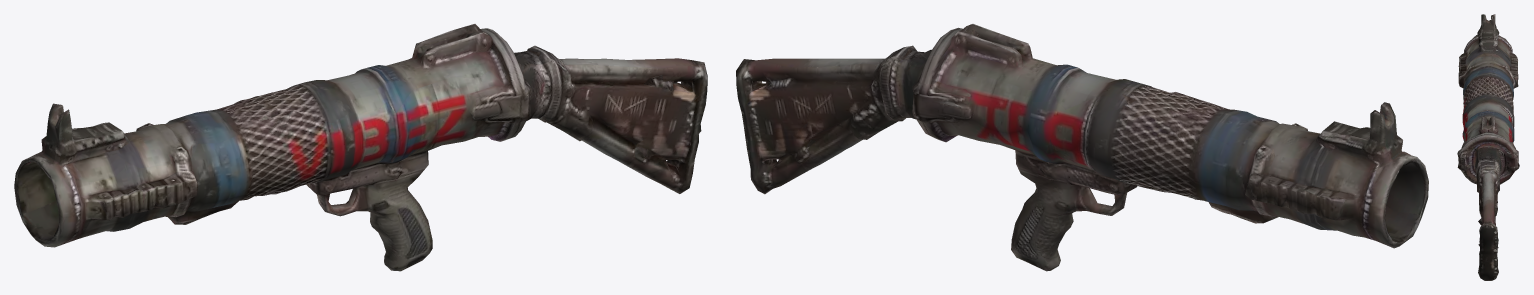
Rendered from bazooka-web.glb.
3 views of the same model, side by side, from view 1: azimuth 30°, elevation 25°; view 2: azimuth 150°, elevation 25°; view 3: azimuth 270°, elevation 25° (orthographic). The views are drawn at different scales.
Visible parts, largest first — view 1: Mesh_0; view 2: Mesh_0; view 3: Mesh_0.
Boxes of the visible parts, box(x1,y1,x2,y2) form: Mesh_0: box(14, 24, 707, 271); Mesh_0: box(736, 24, 1428, 271); Mesh_0: box(1457, 14, 1519, 280).
Size of the model in its own units: 1.92 by 0.6722 by 0.3125.
Materials: 1 (1 with a texture image).
